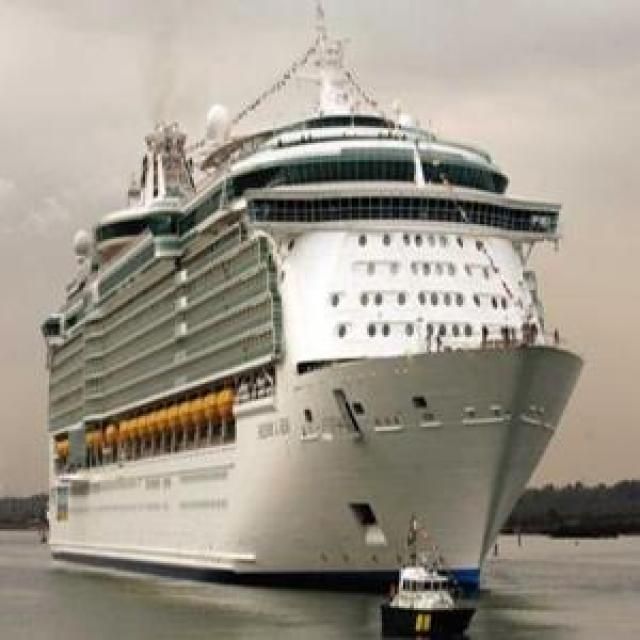houseboat: (364, 517, 478, 632)
passenger ship: (34, 42, 584, 588)
